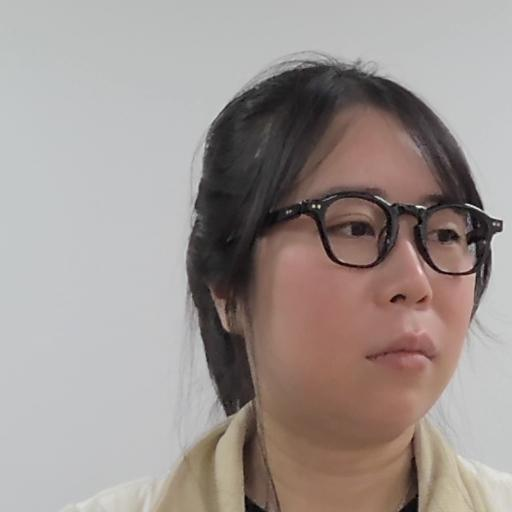no_glasses: (189, 72, 497, 453)
